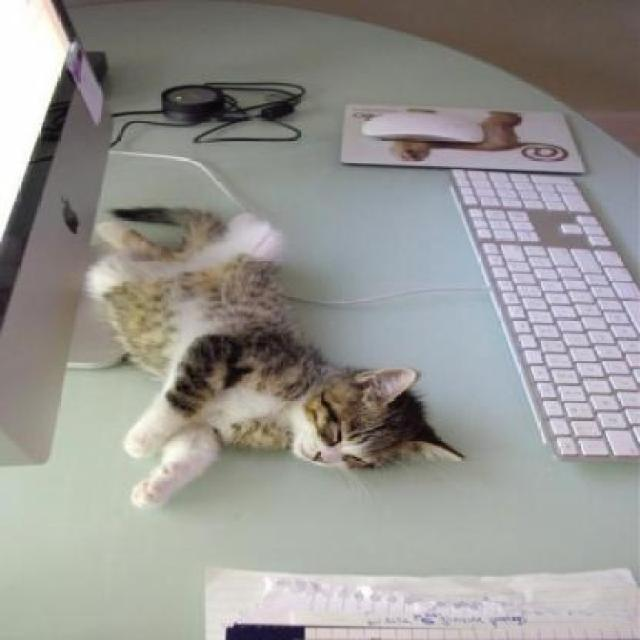cat: (77, 186, 475, 525)
